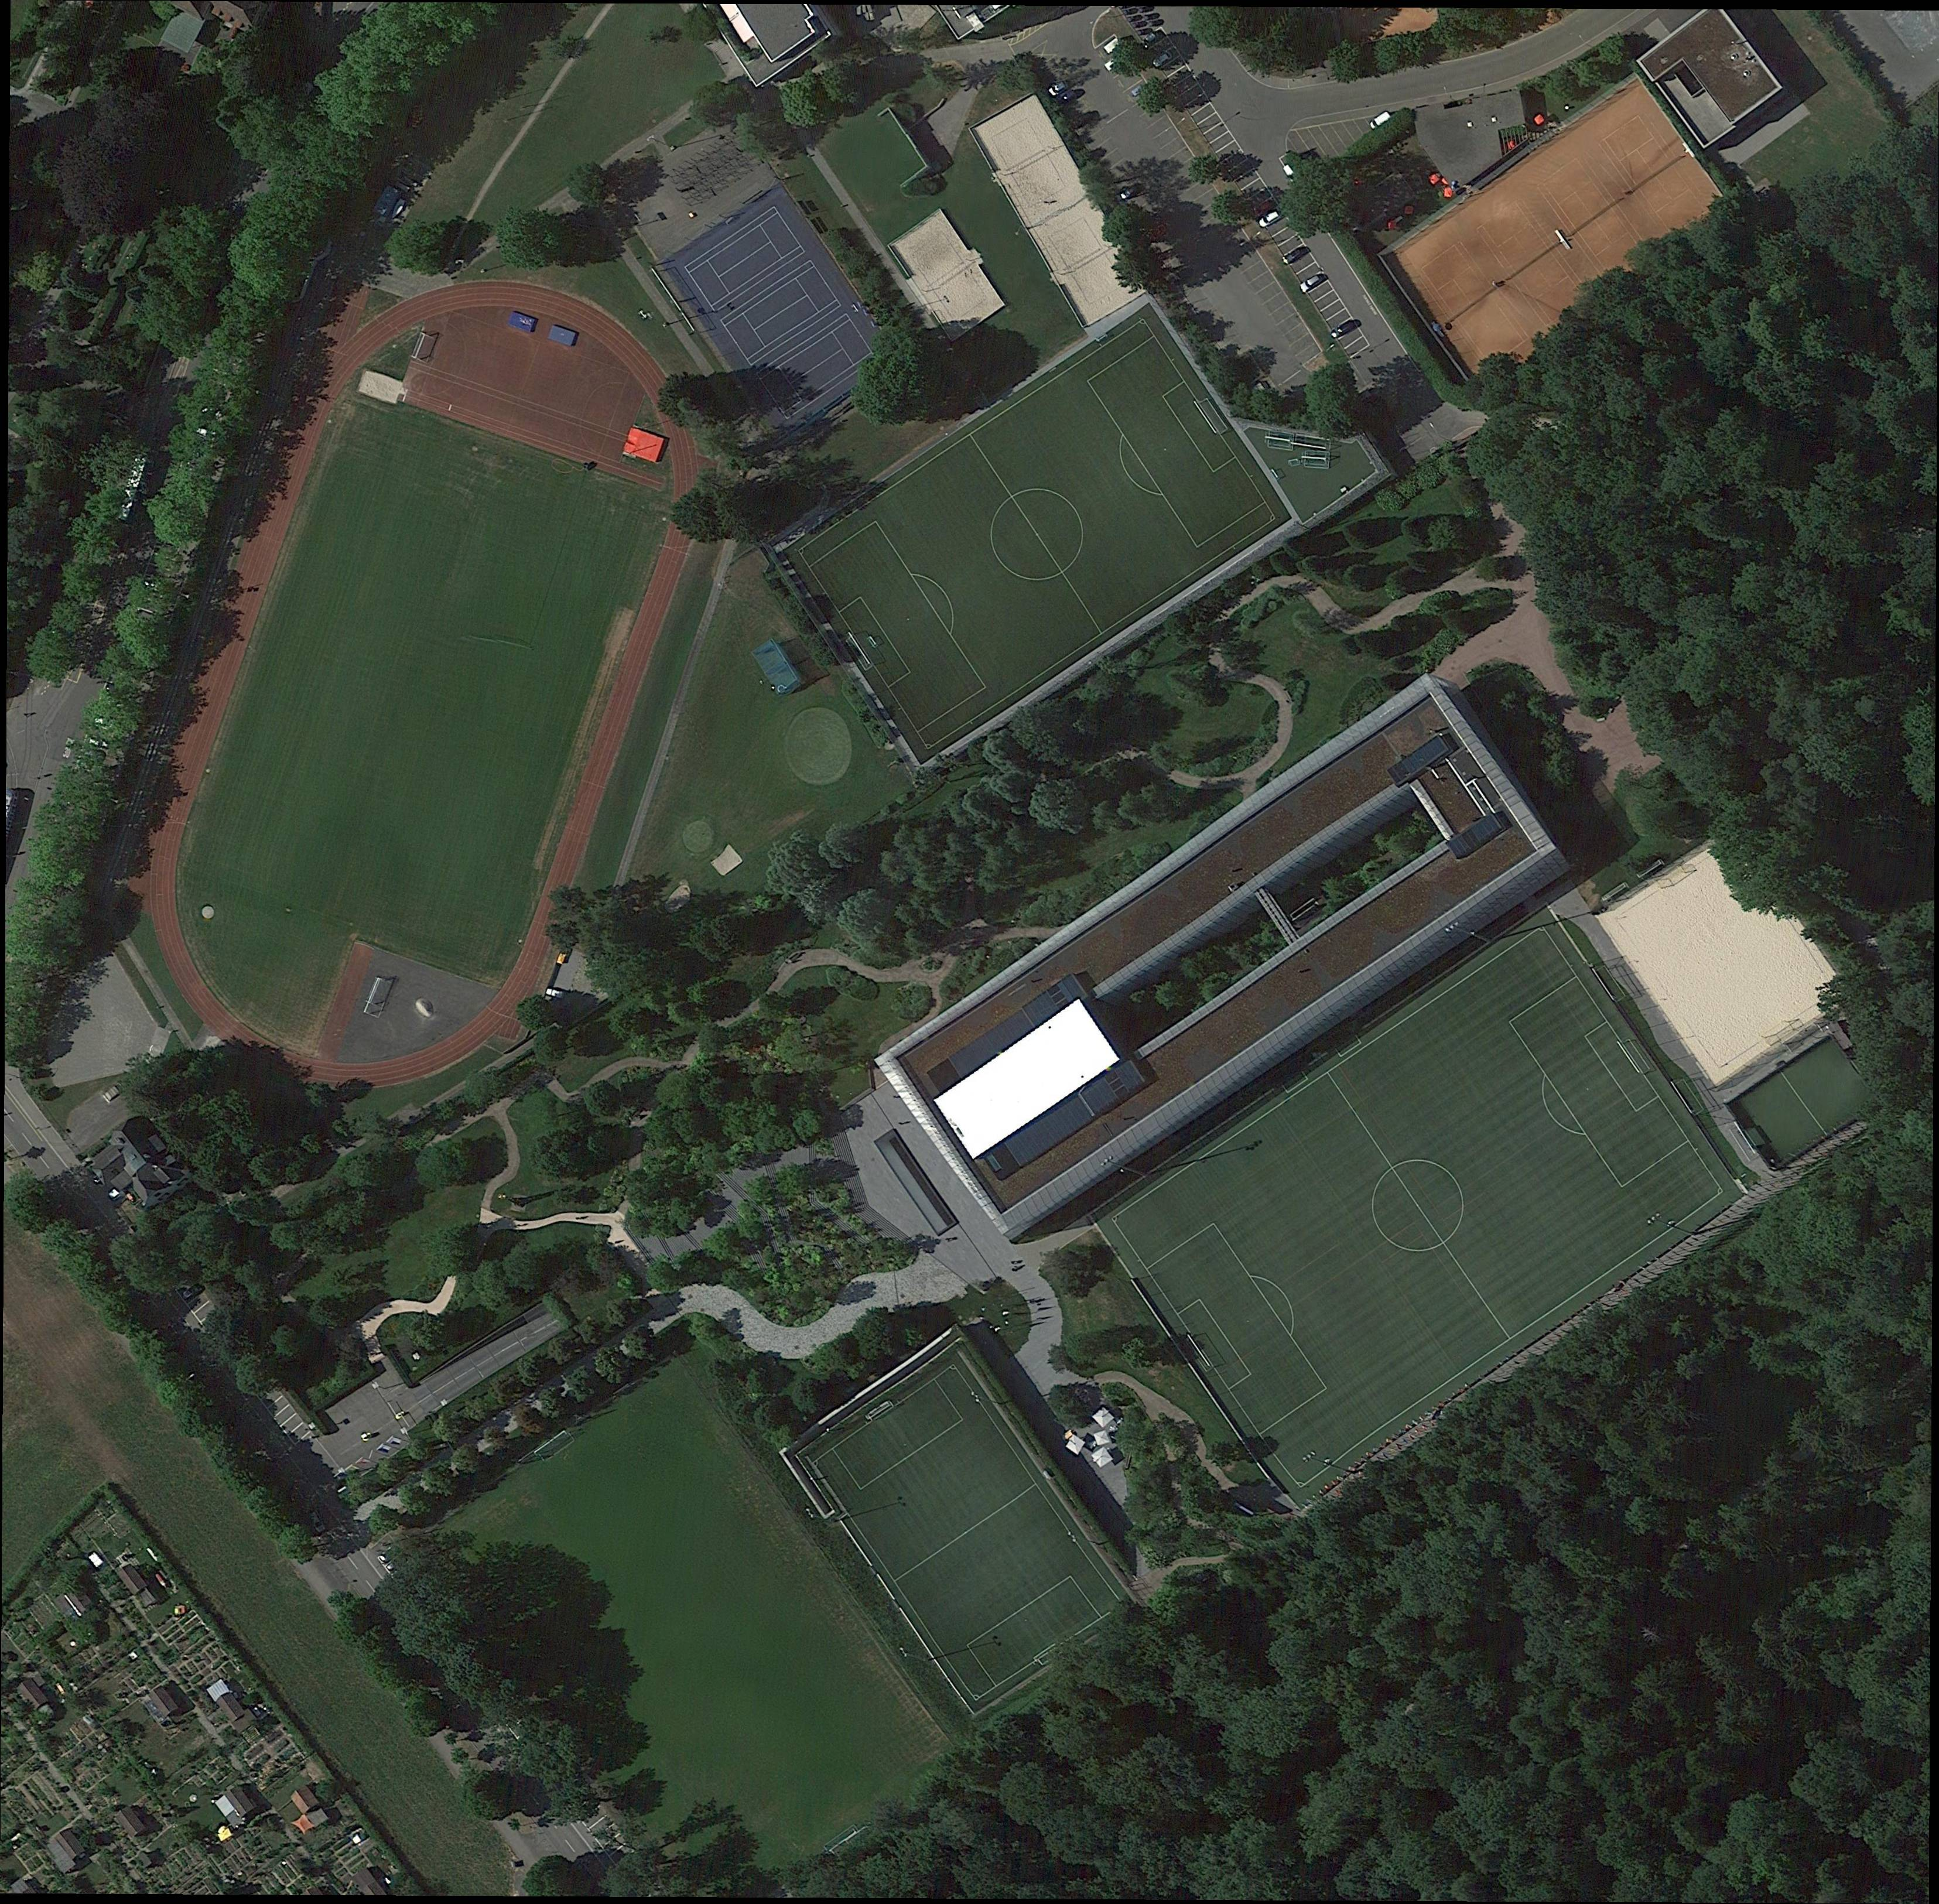ground track field: (71, 225, 769, 1150)
soccer ball field: (1113, 926, 1721, 1487), (798, 318, 1277, 748), (809, 1365, 1124, 1699)
tennis court: (1536, 152, 1654, 283), (1475, 199, 1592, 328), (1598, 111, 1714, 240), (1418, 243, 1531, 371), (685, 206, 805, 315), (756, 313, 877, 420), (720, 261, 840, 365)
